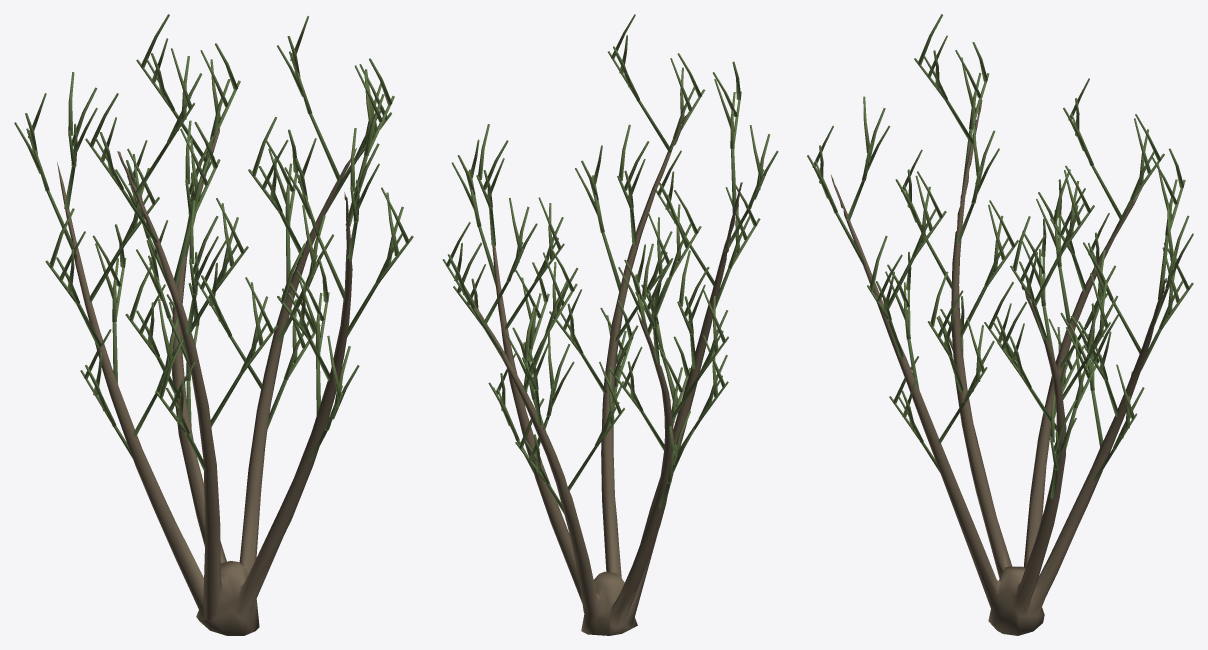
The model's file is Bruyere_0_Niveau1.fbx.
3 views of the same model, side by side, from view 1: azimuth 30°, elevation 25°; view 2: azimuth 150°, elevation 25°; view 3: azimuth 270°, elevation 25° (orthographic). The views are drawn at different scales.
Visible parts, largest first — view 1: Bruyere_0_Niveau1_Jeu; view 2: Bruyere_0_Niveau1_Jeu; view 3: Bruyere_0_Niveau1_Jeu.
Boxes of the visible parts, bbox=[...] form: Bruyere_0_Niveau1_Jeu: bbox=[14, 14, 413, 635]; Bruyere_0_Niveau1_Jeu: bbox=[442, 14, 778, 635]; Bruyere_0_Niveau1_Jeu: bbox=[807, 14, 1193, 635].
Size of the model in its own units: 84.46 by 157 by 97.43.
